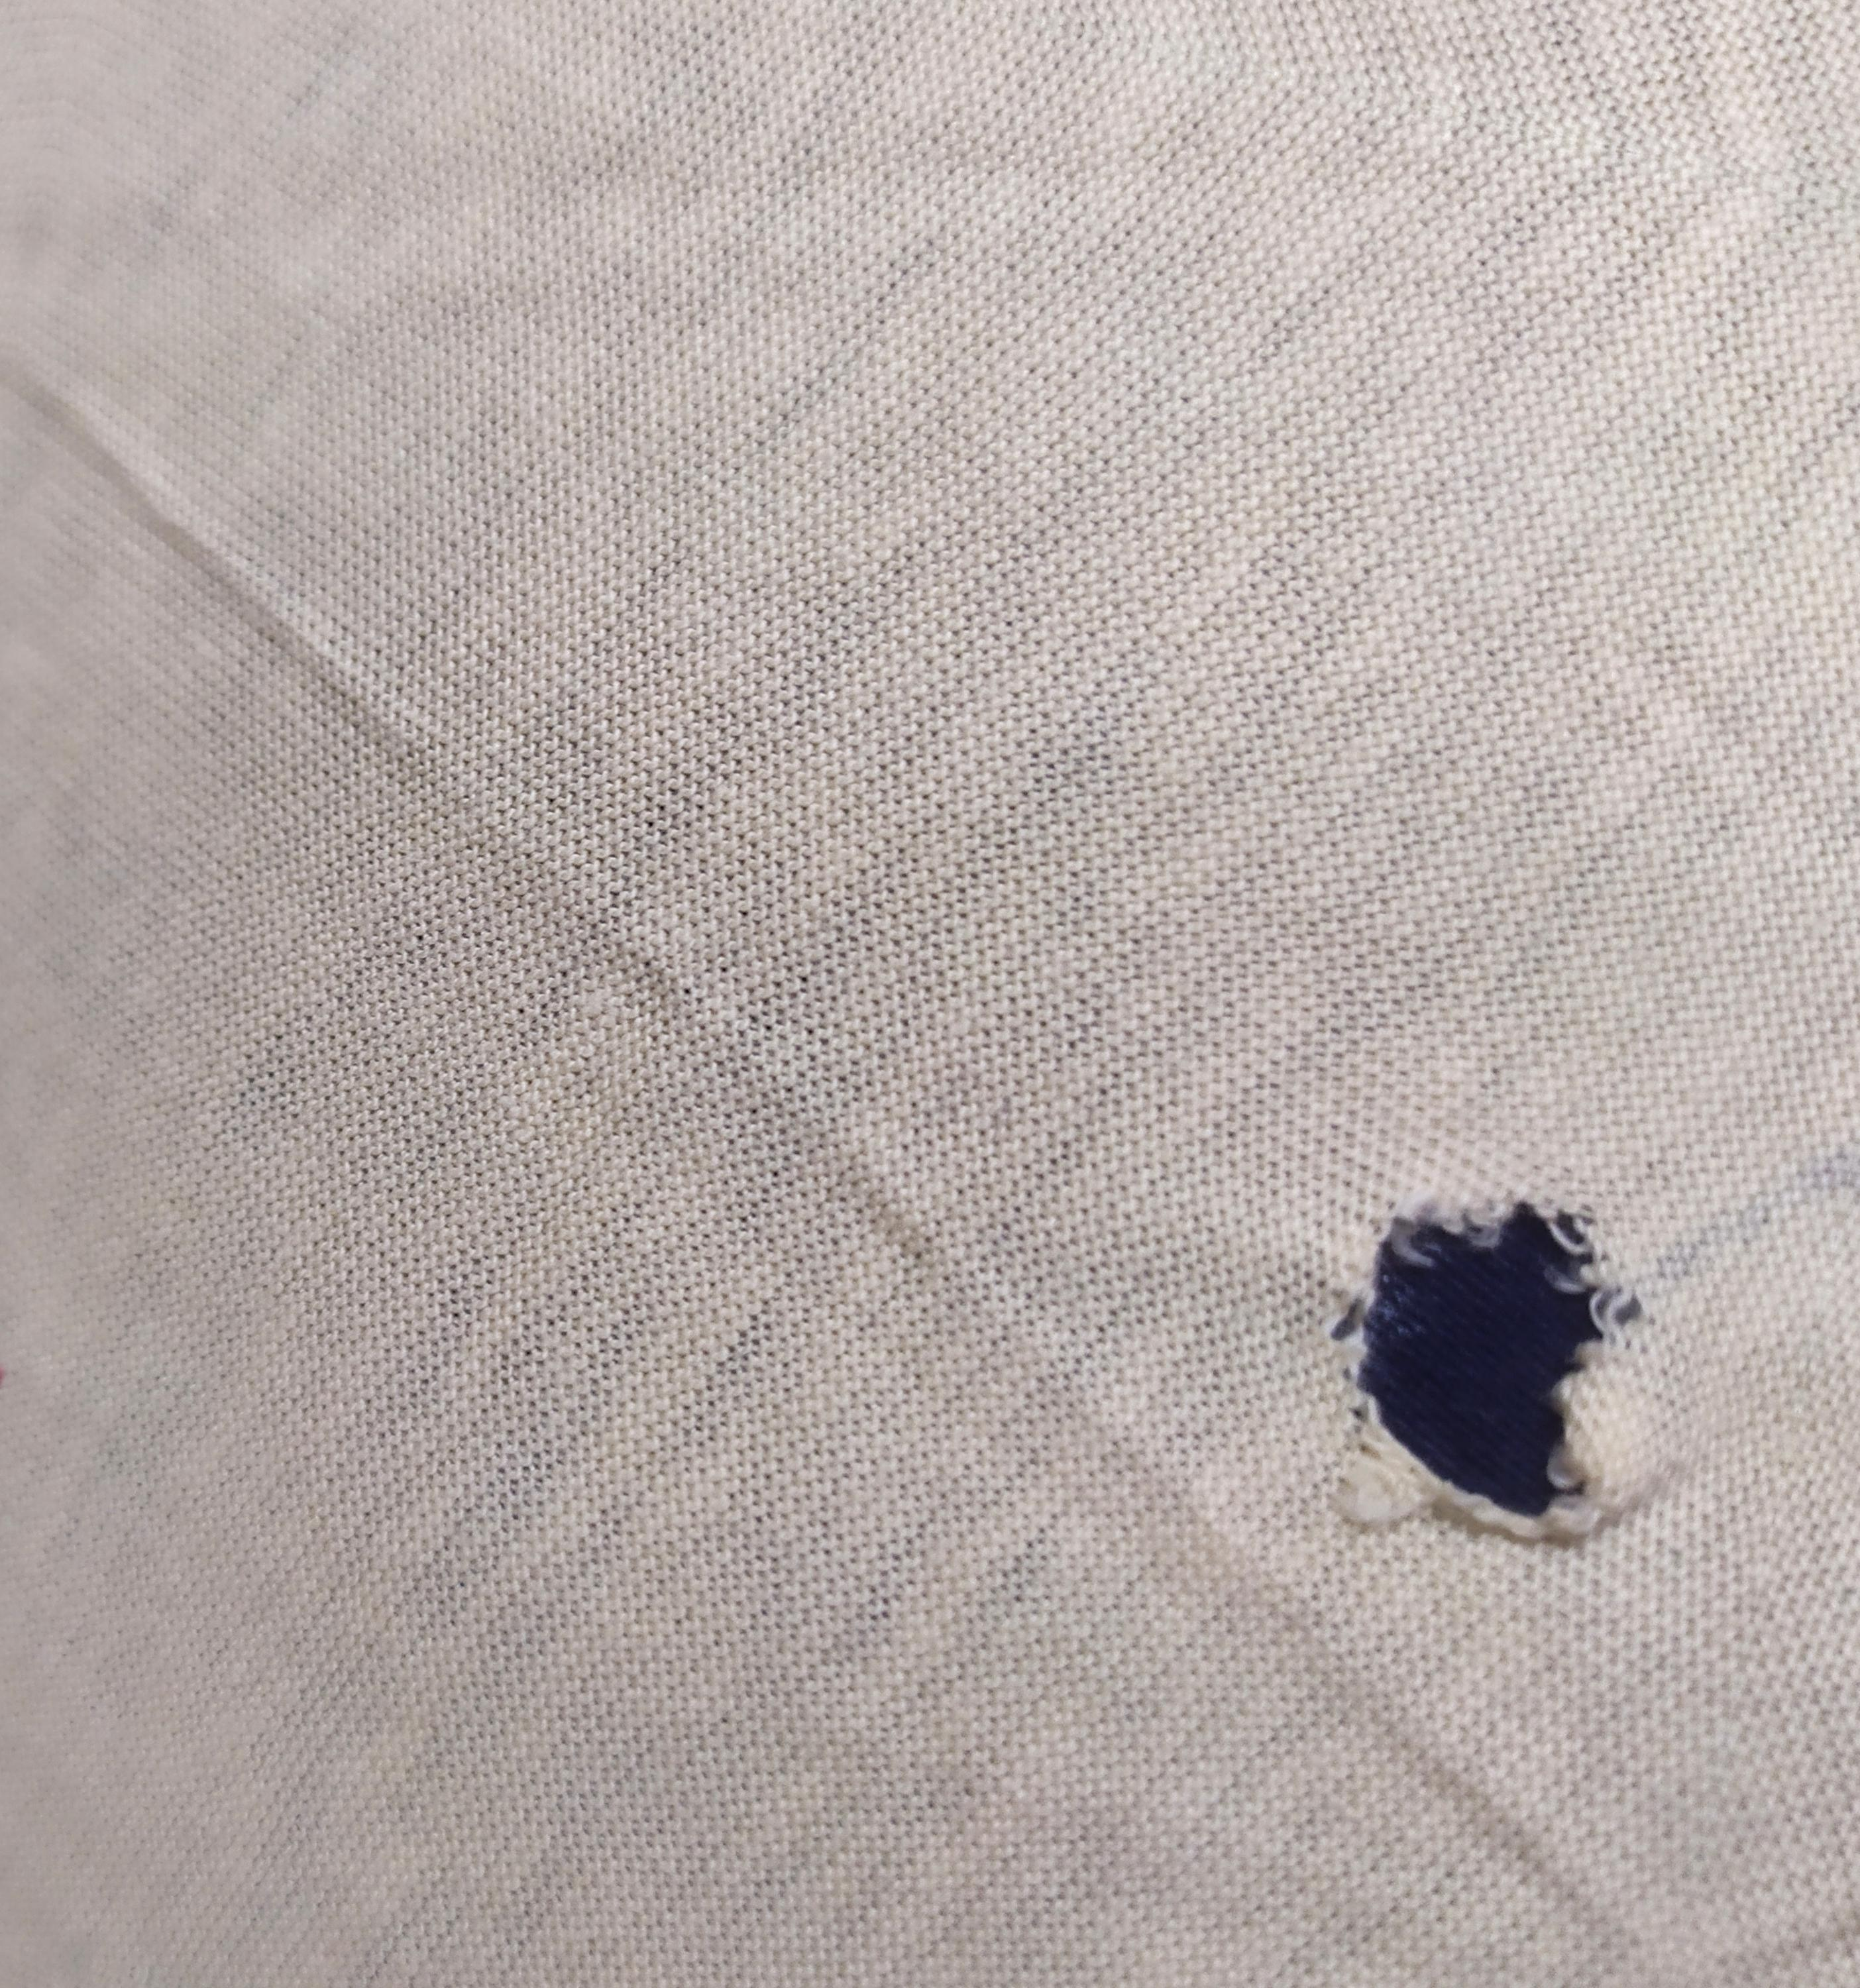hole: (1313, 1171, 1661, 1572)
